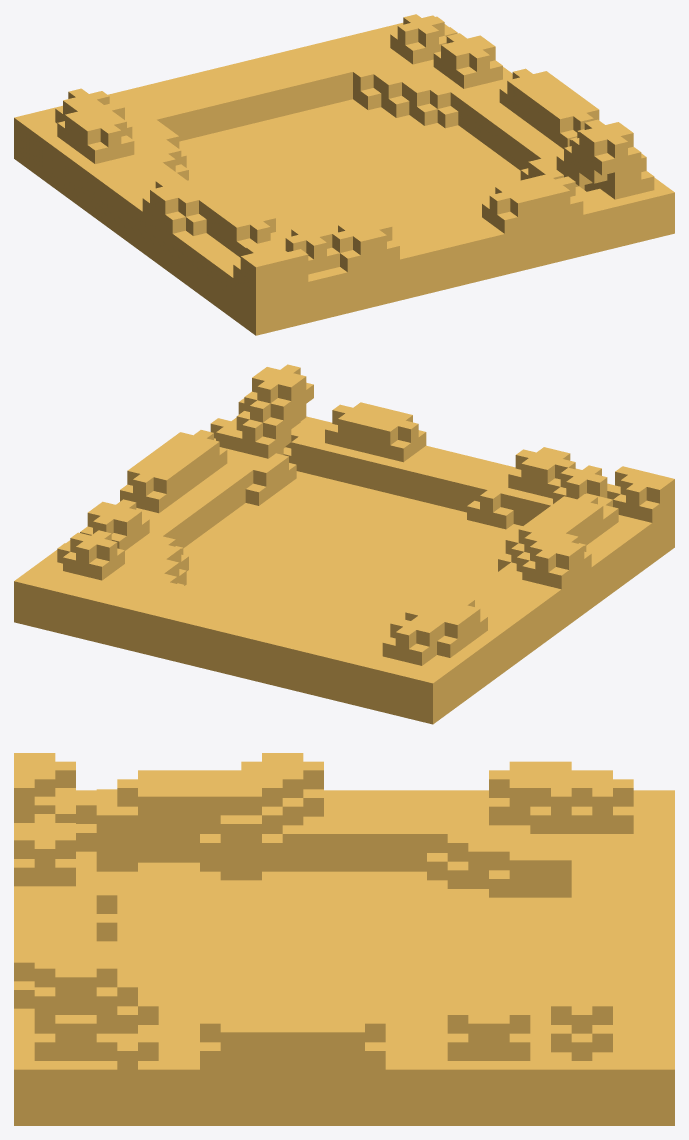
Rendered from desert.obj.
3 renders of one model, top to bottom at view 1: azimuth 30°, elevation 25°; view 2: azimuth 150°, elevation 25°; view 3: azimuth 270°, elevation 25°, orthographic. The views are drawn at different scales.
Bounding box in the file's own units: 32 × 7 × 32.
1 material, 1 textured.
